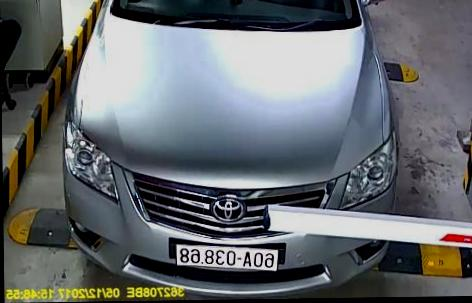License_Plate: (168, 236, 284, 274)
